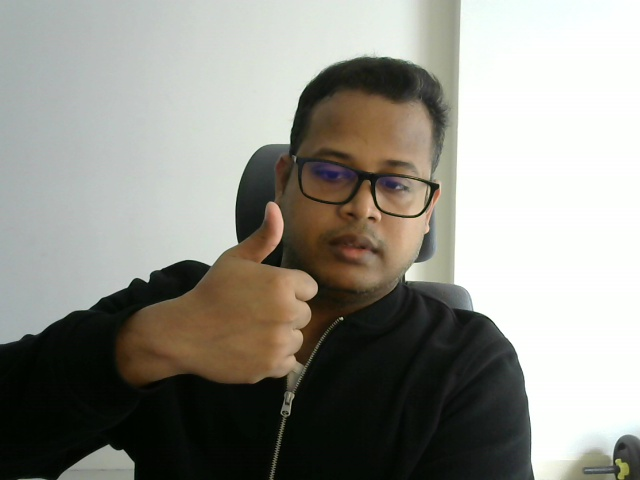ThumbsUp: (203, 201, 318, 384)
